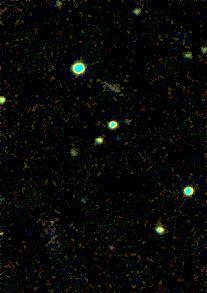star: (36, 204, 66, 234)
